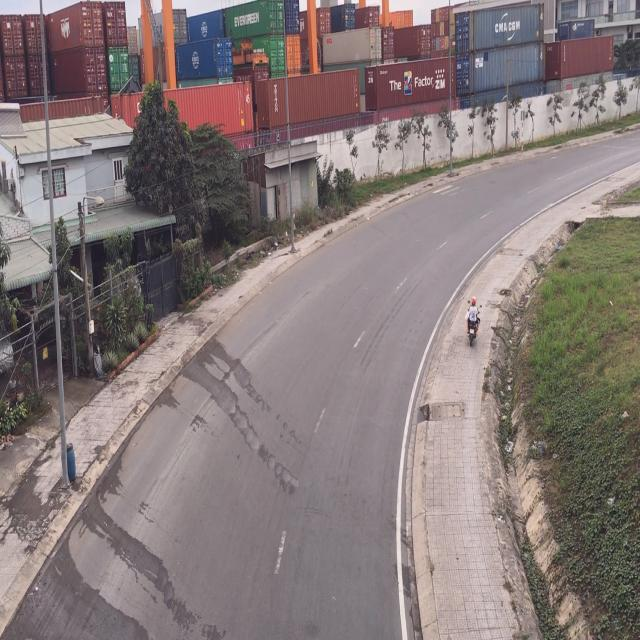motorbike: (463, 298, 479, 346)
